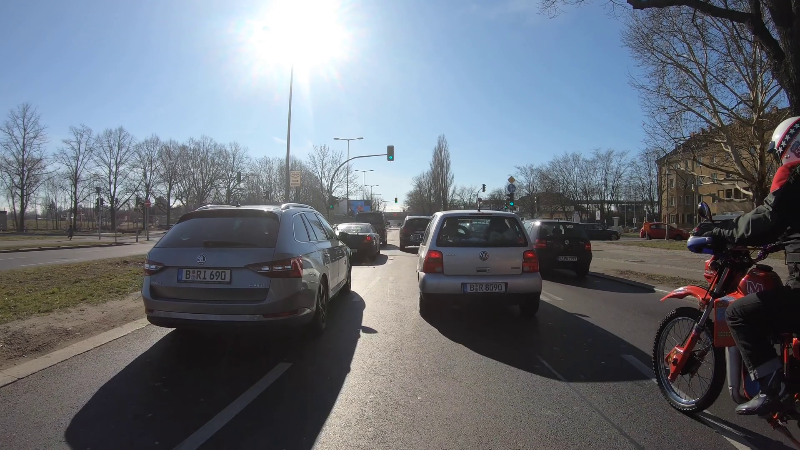Plate: (174, 264, 235, 286), (460, 280, 507, 293), (556, 253, 580, 263)
